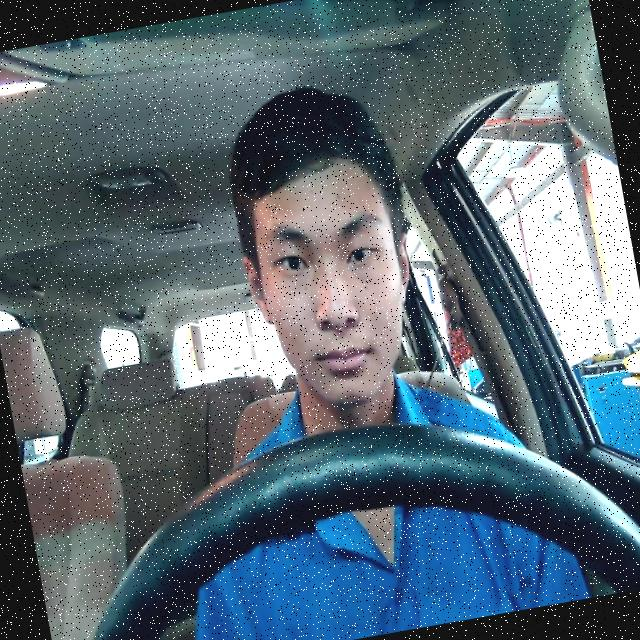focused: (227, 147, 432, 420)
